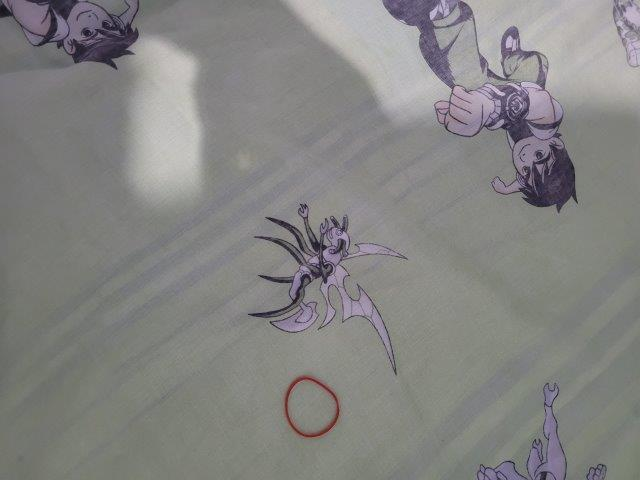karet: (283, 376, 340, 438)
